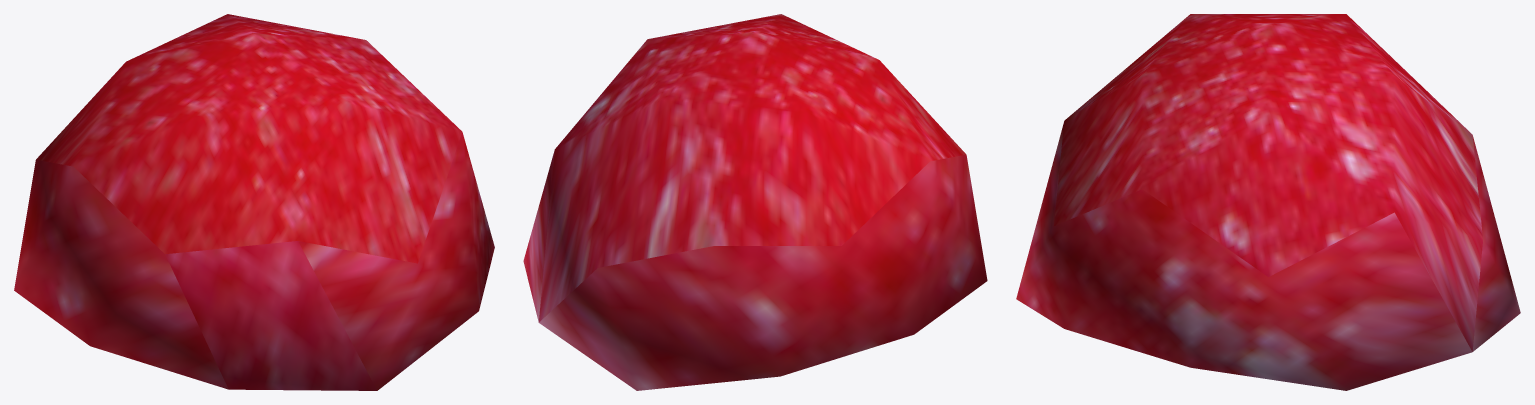
The model's file is CandyGumDropPink.fbx.
The picture shows the model from 3 angles, left to right: view 1: azimuth 30°, elevation 25°; view 2: azimuth 150°, elevation 25°; view 3: azimuth 270°, elevation 25°; orthographic projection. The views are drawn at different scales.
Visible parts, largest first — view 1: Icosphere.005; view 2: Icosphere.005; view 3: Icosphere.005.
Part boxes in pixels (bbox=[...]): Icosphere.005: bbox=[14, 14, 494, 390]; Icosphere.005: bbox=[523, 14, 987, 390]; Icosphere.005: bbox=[1016, 14, 1520, 390].
Size of the model in its own units: 190 by 131 by 200.
